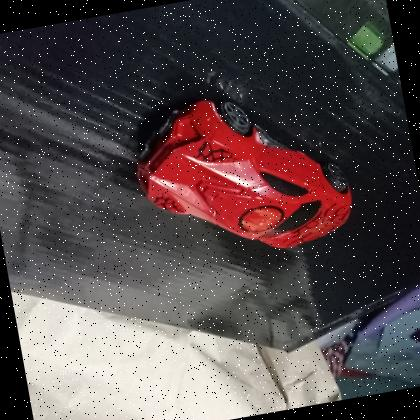Car: (135, 98, 352, 248)
